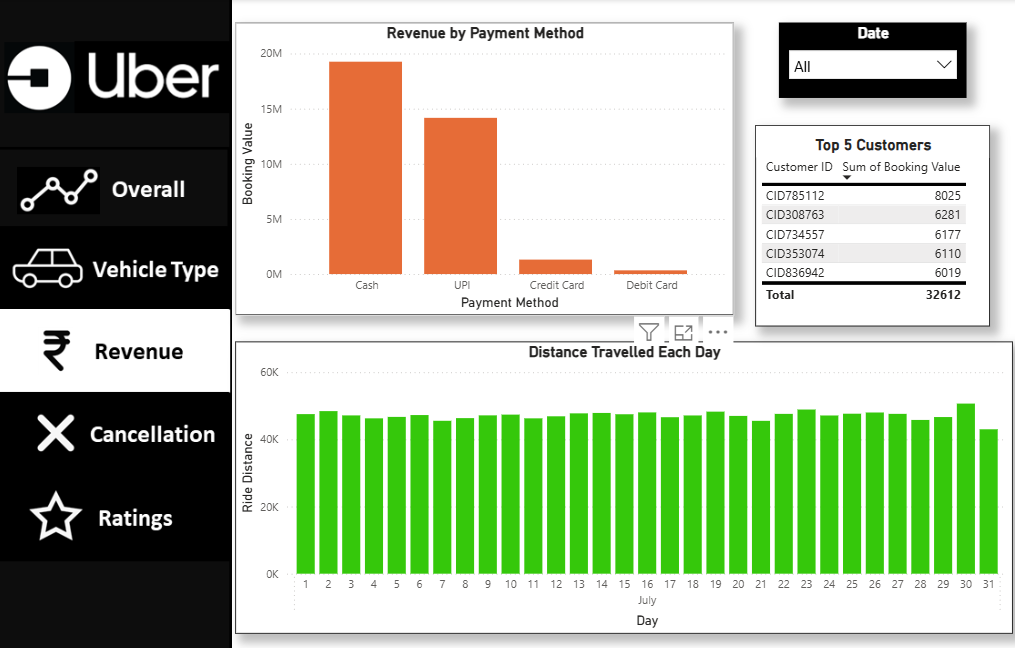

What the dashboard file says about the page in this screenshot:
{"tool":"powerbi","page":{"name":"Revenue","canvas":[1280,720],"ordinal":2},"visuals":[{"type":"columnChart","title":"Distance Travelled Each Day","fields":{"Y":["Sum(July.Ride_Distance)"],"Category":["July.Date.Variation.Date Hierarchy.Month","July.Date.Variation.Date Hierarchy.Day"]},"box":[418.5,376,853.5,321.1],"z":0},{"type":"columnChart","title":"Revenue by Payment Method","fields":{"Category":["July.Payment_Method"],"Y":["Sum(July.Booking_Value)"]},"box":[418.5,26.1,547.5,321.1],"z":1000},{"type":"slicer","title":"Date","fields":{"Values":["July.Date"]},"box":[1015.4,26.1,205.8,82.3],"z":2000},{"type":"tableEx","title":"Top 5 Customers","fields":{"Values":["July.Customer_ID","Sum(July.Booking_Value)"]},"box":[989.4,138.6,258,220.9],"z":3000}]}

Visuals, with their boxes on the page's 1280x720 design canvas (x1, y1, x2, y2). These are canvas units, not pixel positions in the 1015x648 screenshot, which may show the page scaled, cropped or inside an application window:
"Distance Travelled Each Day" columnChart: l=418, t=376, r=1272, b=697
"Revenue by Payment Method" columnChart: l=418, t=26, r=966, b=347
"Date" slicer: l=1015, t=26, r=1221, b=108
"Top 5 Customers" tableEx: l=989, t=139, r=1247, b=360
